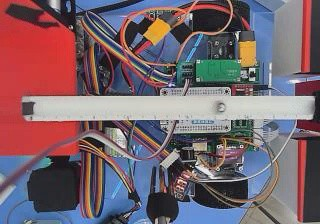ironball: (215, 100, 227, 113)
